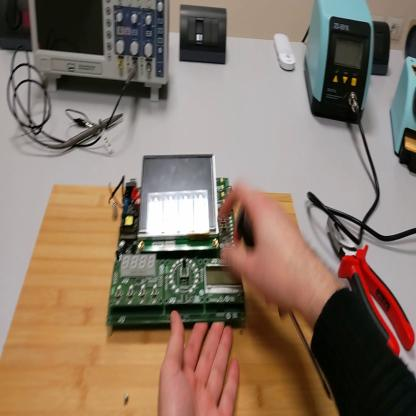hand: (220, 183, 312, 308), (158, 308, 240, 415)
low voltage board: (109, 153, 249, 324)
oscilloscope: (29, 1, 171, 106)
oscilloscope probe tip: (59, 113, 123, 150)
pliers: (327, 212, 416, 358)
screwdriver-: (240, 212, 334, 401)
socket: (2, 1, 33, 55), (370, 18, 391, 77), (404, 24, 416, 57)
welder base: (392, 57, 416, 172)
welder station: (304, 2, 375, 126)
working area: (2, 188, 338, 415)
